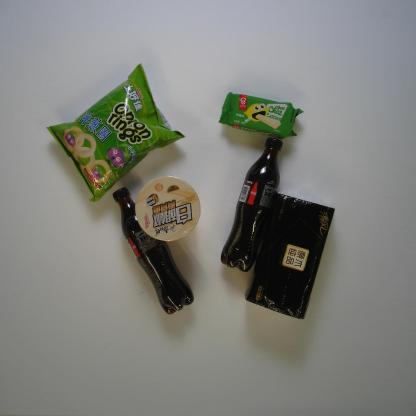Dessert: (218, 91, 304, 141)
Drink: (109, 186, 196, 316), (218, 135, 285, 276)
Instant Noodles: (134, 173, 202, 243)
Puffed Food: (42, 60, 185, 203)
Tissue: (242, 191, 338, 323)
